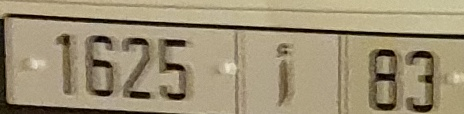1: (51, 33, 77, 96)
2: (120, 36, 152, 101)
3: (404, 49, 437, 113)
5: (158, 37, 190, 103)
6: (83, 34, 117, 98)
8: (367, 48, 399, 111)
a: (274, 41, 292, 109)
